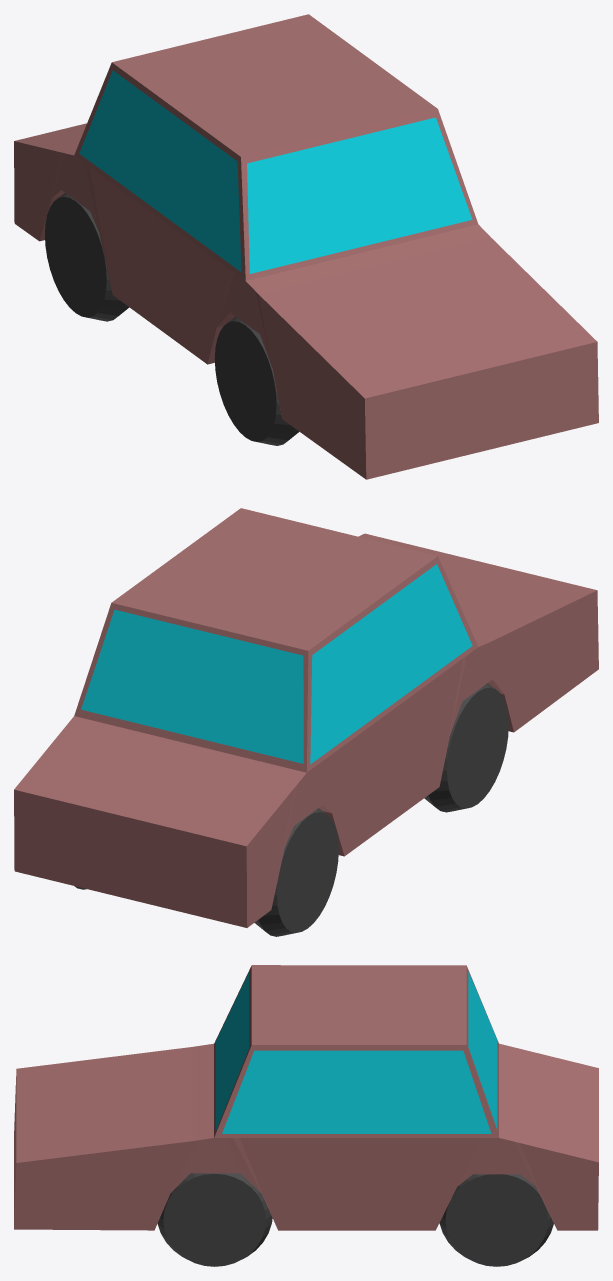
The model's file is animated car test 1.fbx.
3 renders of one model, top to bottom at view 1: azimuth 30°, elevation 25°; view 2: azimuth 150°, elevation 25°; view 3: azimuth 270°, elevation 25°, orthographic. The views are drawn at different scales.
Parts seen in each view (by area): view 1: Cylinder.003; view 2: Cylinder.003; view 3: Cylinder.003.
Boxes of the visible parts, <box> form: Cylinder.003: <box>14,14,598,479</box>; Cylinder.003: <box>14,508,598,936</box>; Cylinder.003: <box>14,965,598,1266</box>.
Bounding box in the file's own units: 1380 × 1516 × 3614.
